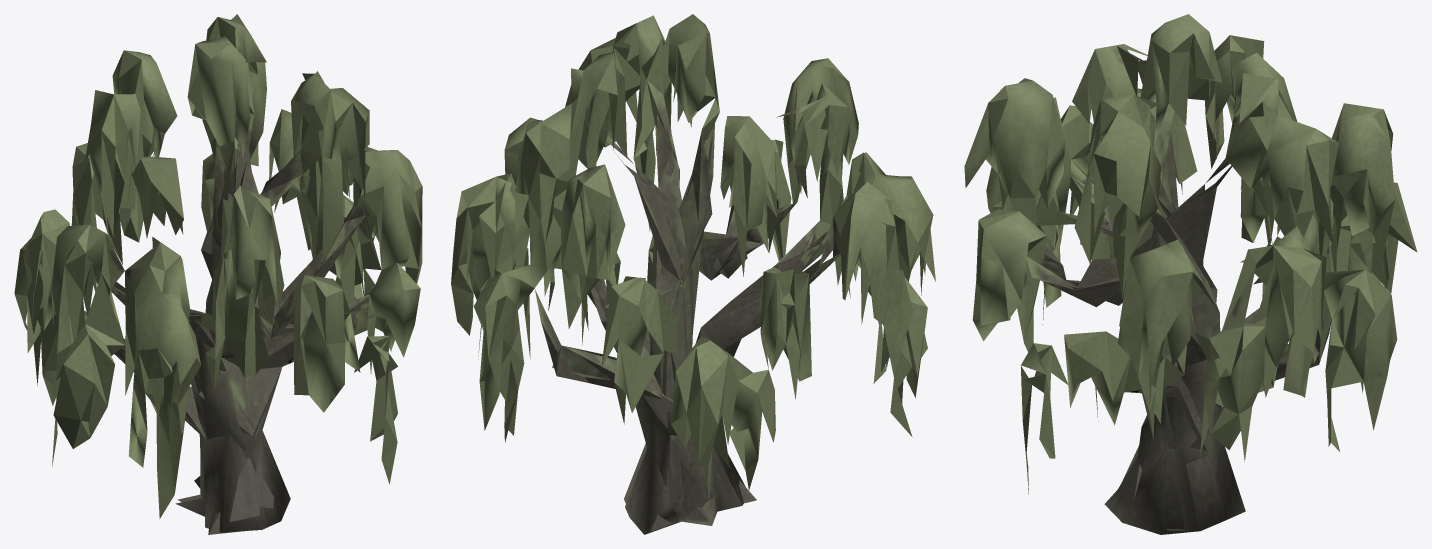
File: 03_Weeping_Willow.fbx
3 renders of one model, left to right at view 1: azimuth 30°, elevation 25°; view 2: azimuth 150°, elevation 25°; view 3: azimuth 270°, elevation 25°, orthographic. The views are drawn at different scales.
Parts seen in each view (by area): view 1: 03_Weeping_Willow; view 2: 03_Weeping_Willow; view 3: 03_Weeping_Willow.
Boxes of the visible parts, left/top/right/bottom form: 03_Weeping_Willow: left=14, top=14, right=422, bottom=534; 03_Weeping_Willow: left=451, top=14, right=935, bottom=534; 03_Weeping_Willow: left=964, top=14, right=1417, bottom=534.
Size of the model in its own units: 5.5 by 6.5 by 5.5.
